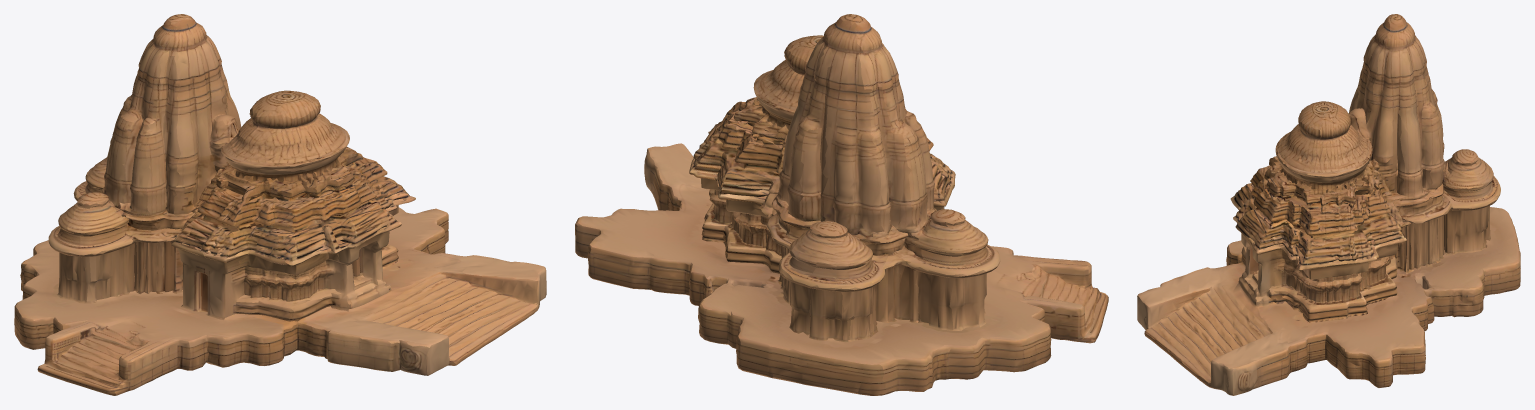
3 renders of one model, left to right at view 1: azimuth 30°, elevation 25°; view 2: azimuth 150°, elevation 25°; view 3: azimuth 270°, elevation 25°, orthographic. The views are drawn at different scales.
Visible parts, largest first — view 1: textured_mesh; view 2: textured_mesh; view 3: textured_mesh.
Boxes of the visible parts, bbox=[...] form: textured_mesh: bbox=[14, 14, 546, 395]; textured_mesh: bbox=[575, 14, 1108, 395]; textured_mesh: bbox=[1137, 14, 1520, 395].
Size of the model in its own units: 56.06 by 33.2 by 44.58.
Materials: 1 (1 with a texture image).
